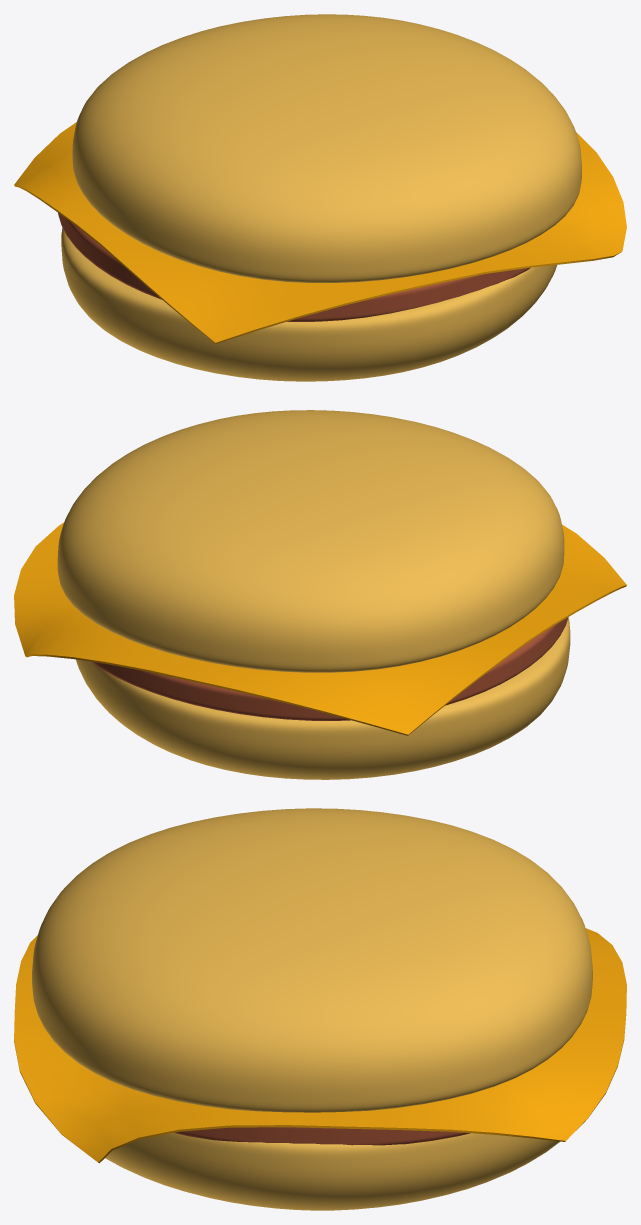
File: hamburger.glb
The picture shows the model from 3 angles, top to bottom: view 1: azimuth 30°, elevation 25°; view 2: azimuth 150°, elevation 25°; view 3: azimuth 270°, elevation 25°; orthographic projection. The views are drawn at different scales.
Visible parts, largest first — view 1: Cube, Cube.001, Plane.001, Cube.002; view 2: Cube, Plane.001, Cube.001, Cube.002; view 3: Cube, Plane.001, Cube.001, Cube.002.
Boxes of the visible parts, x1,y1,x2,y2 form: Cube: (72,14,581,282); Cube.001: (61,227,557,381); Plane.001: (14,122,626,343); Cube.002: (58,213,530,321); Cube: (57,410,564,672); Plane.001: (14,522,626,735); Cube.001: (76,617,570,779); Cube.002: (92,617,568,720); Cube: (32,808,592,1112); Plane.001: (14,928,626,1163); Cube.001: (105,1133,559,1210); Cube.002: (174,1127,469,1145).
Bounding box in the file's own units: 2.01 × 0.9788 × 2.
